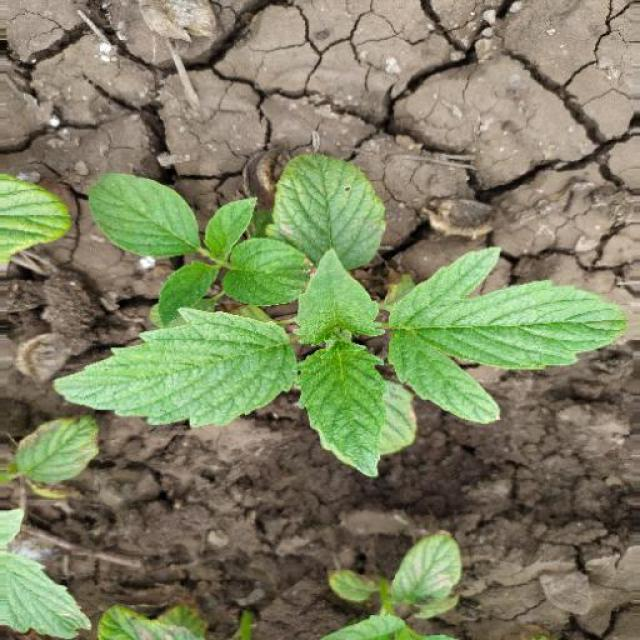crop: (62, 182, 640, 498)
